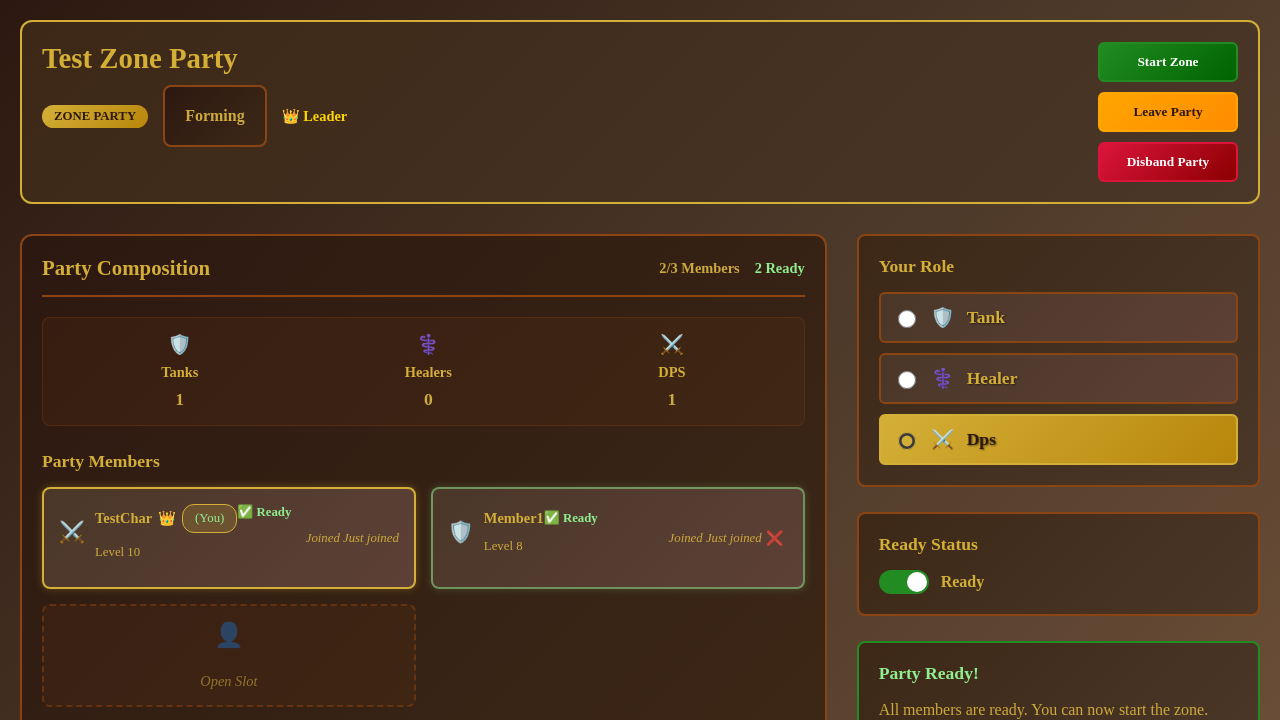
Scenario: PartyManager › handles errors gracefully
Click the radio button labelled "🛡️ Tank".
click(907, 319)  # box left=898, top=310, right=916, bottom=328
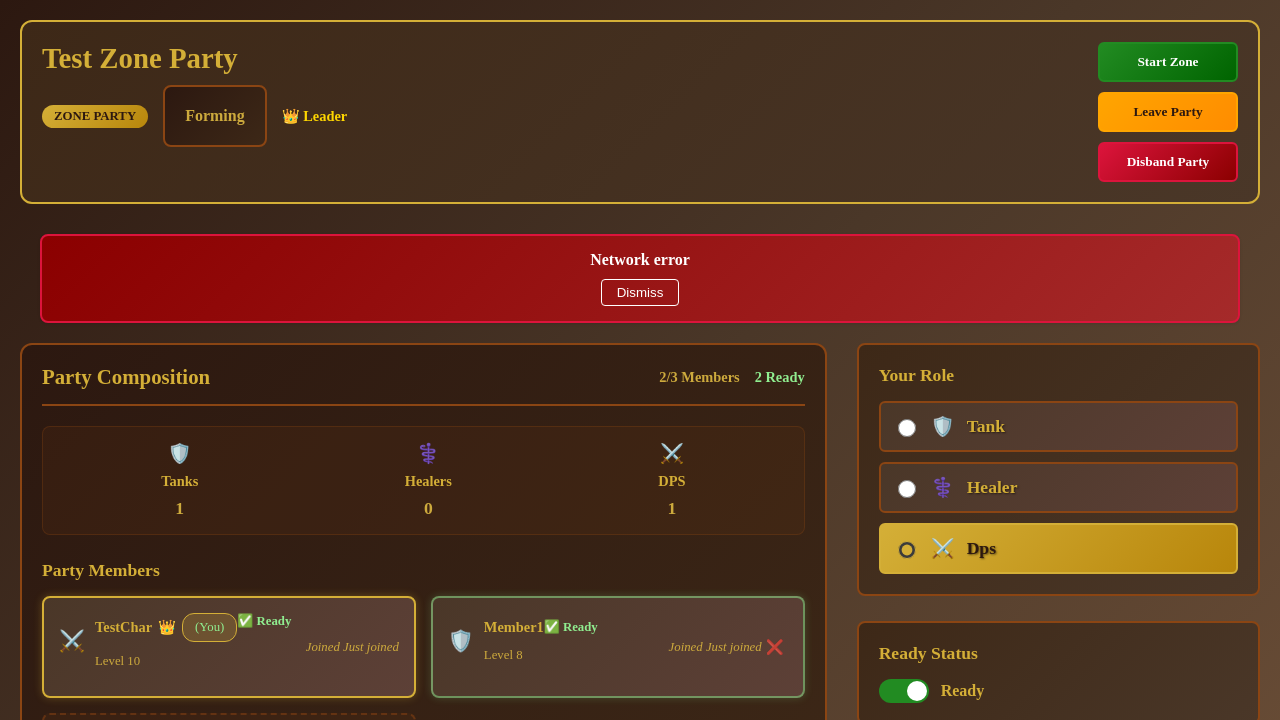
Check: the text "Network error" is shown, box left=590, top=251, right=690, bottom=269
// Dismiss error
Click the button "Dismiss".
click(640, 292)  # box left=601, top=279, right=679, bottom=306
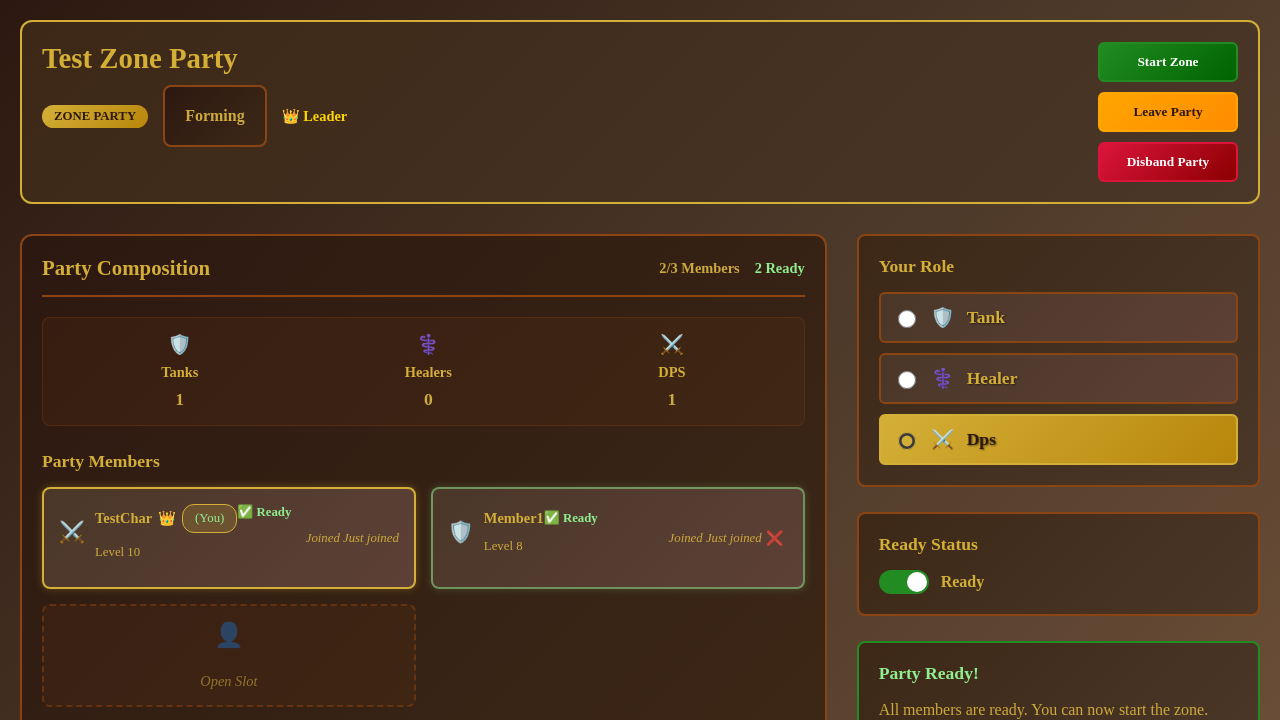
Check: the text "Network error" is gone
